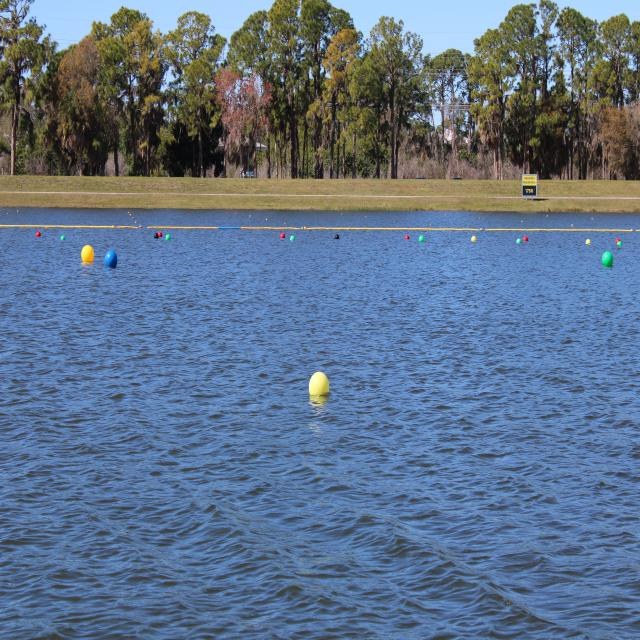blue-buoy: (105, 248, 118, 269)
green-buoy: (602, 251, 614, 267), (290, 236, 296, 244), (619, 242, 624, 248)
red-buoy: (280, 233, 286, 240), (34, 230, 39, 237)
yellow-buoy: (308, 370, 329, 398), (81, 242, 94, 263), (470, 236, 476, 245), (586, 239, 592, 246)
